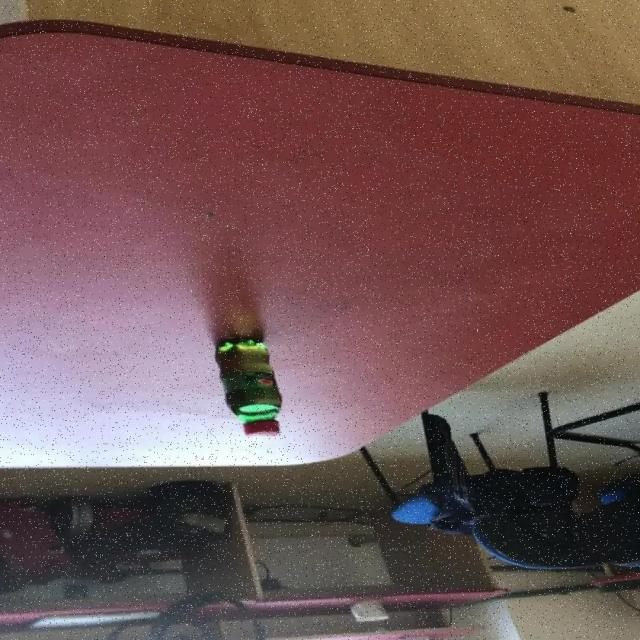Guarana: (212, 336, 282, 436)
